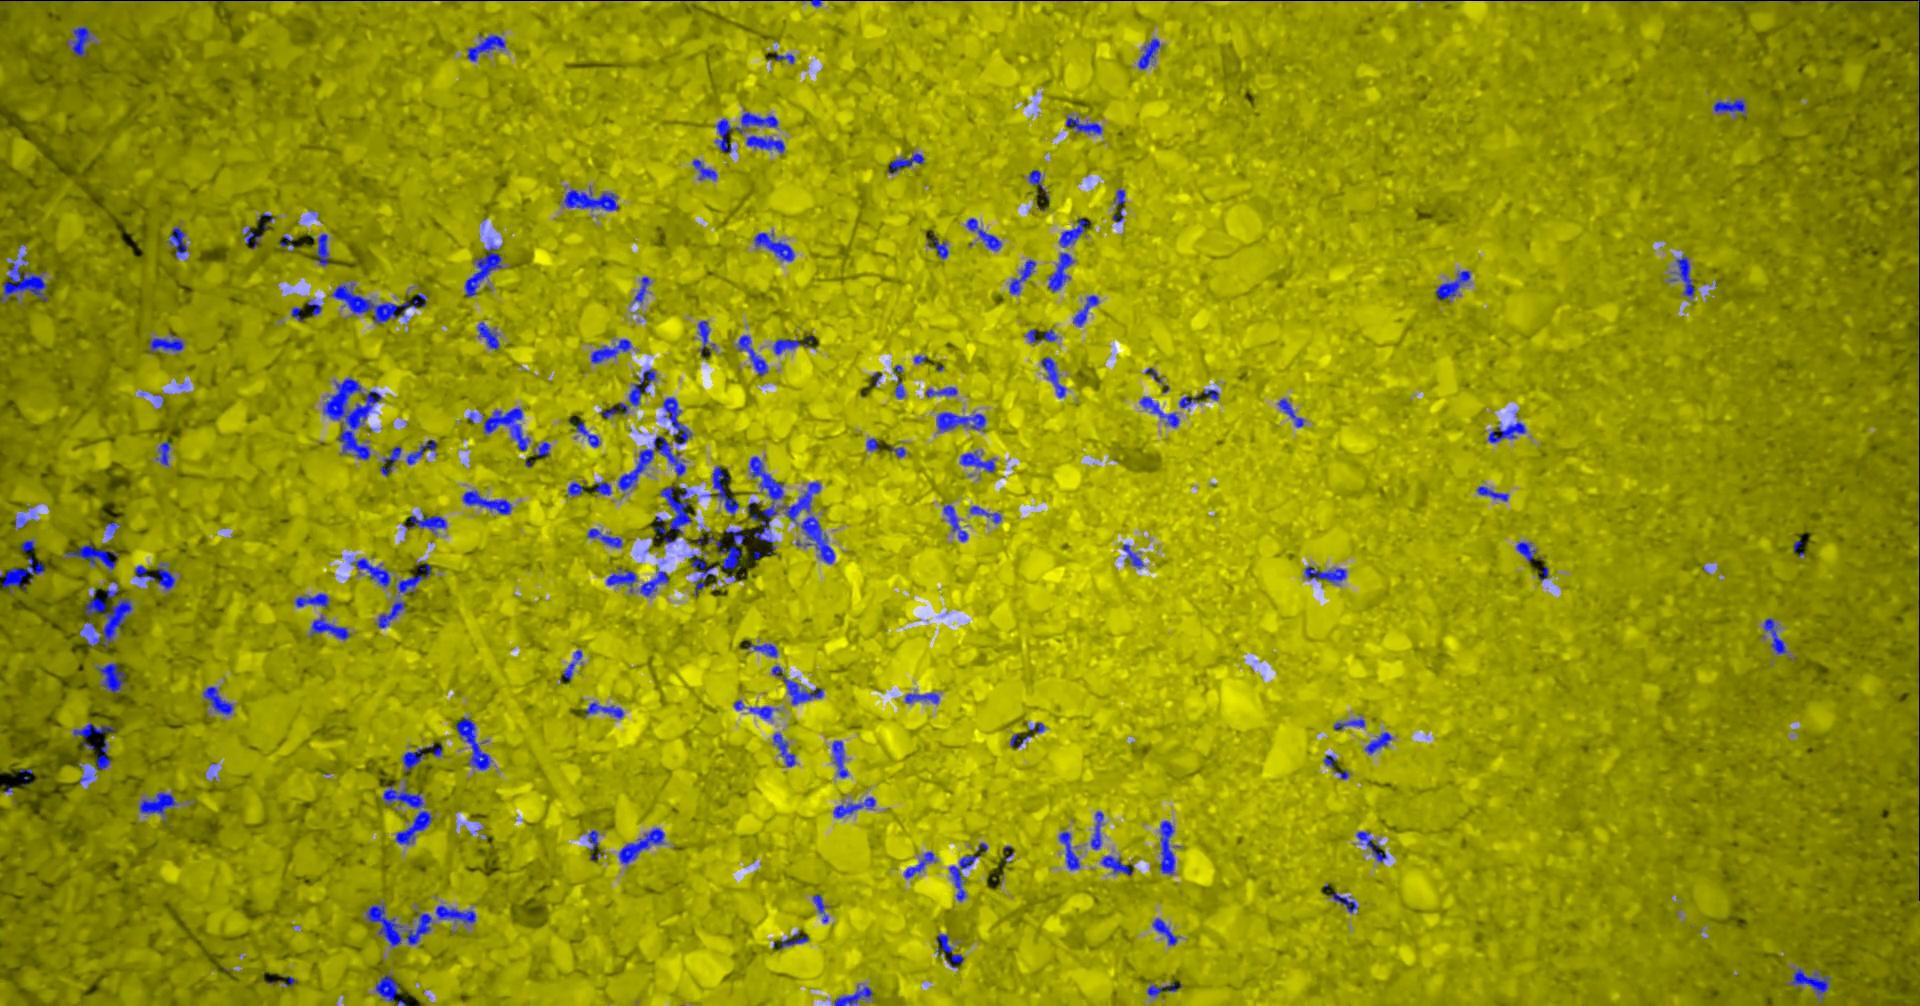ant: (617, 434, 684, 490), (745, 456, 783, 554), (382, 784, 430, 843), (366, 904, 430, 946), (84, 591, 132, 647), (714, 111, 777, 152), (483, 406, 530, 451), (771, 666, 823, 704), (0, 259, 47, 301), (455, 716, 491, 768), (463, 246, 502, 296), (703, 465, 738, 514), (618, 827, 664, 862), (0, 556, 44, 592), (65, 540, 117, 569), (660, 486, 692, 533), (949, 854, 979, 901), (662, 398, 691, 445), (715, 528, 744, 573), (563, 187, 618, 210), (737, 335, 767, 375), (1139, 396, 1178, 427), (462, 490, 510, 514), (753, 232, 794, 260), (966, 217, 1001, 250), (138, 791, 177, 821), (466, 33, 505, 61), (135, 563, 175, 589), (690, 554, 715, 596), (350, 558, 389, 586), (1790, 968, 1830, 995), (1041, 356, 1065, 398), (936, 412, 985, 432), (1048, 251, 1073, 291), (590, 338, 630, 363), (1435, 271, 1470, 298), (629, 368, 655, 405), (397, 563, 430, 592), (1672, 254, 1694, 297), (375, 974, 405, 1005), (1356, 831, 1385, 862), (1008, 259, 1035, 293), (310, 616, 349, 639), (943, 504, 968, 541), (1058, 218, 1090, 246), (936, 934, 963, 967), (832, 796, 875, 817), (639, 567, 668, 596), (97, 663, 124, 694), (202, 686, 232, 714), (1072, 295, 1098, 326), (1487, 420, 1525, 442), (403, 514, 446, 533), (1058, 831, 1079, 869), (1763, 619, 1785, 654), (1159, 821, 1175, 874), (903, 851, 935, 876), (959, 451, 996, 473), (772, 732, 795, 766), (376, 600, 404, 627), (1277, 398, 1304, 427), (1888, 0, 1919, 25), (606, 567, 636, 592), (436, 904, 475, 923), (833, 986, 872, 1005), (888, 152, 924, 173), (651, 514, 677, 542), (406, 439, 436, 464), (773, 337, 813, 354), (1137, 38, 1159, 69), (745, 135, 783, 152), (585, 528, 621, 547), (1152, 918, 1177, 945), (1304, 565, 1345, 582), (1100, 855, 1133, 875), (1065, 116, 1102, 133), (149, 333, 183, 352), (575, 420, 599, 447), (72, 721, 114, 737), (378, 446, 400, 475), (1364, 730, 1390, 753), (830, 741, 847, 777), (71, 25, 90, 57), (168, 226, 187, 258), (1029, 169, 1048, 199), (563, 649, 582, 680), (585, 702, 623, 718), (1330, 892, 1357, 912), (969, 506, 1001, 523), (477, 323, 498, 349), (1090, 810, 1103, 848), (1713, 99, 1745, 116), (745, 640, 777, 657), (401, 748, 424, 771), (1476, 485, 1509, 500), (94, 738, 110, 768), (692, 159, 716, 179), (1123, 544, 1143, 568), (1145, 982, 1180, 996), (315, 232, 329, 265), (295, 593, 328, 607), (811, 893, 827, 922), (778, 932, 808, 948), (632, 276, 649, 302), (601, 401, 627, 418), (931, 235, 949, 258), (243, 227, 262, 248), (1516, 541, 1535, 561), (1333, 718, 1364, 730), (588, 829, 601, 860), (697, 320, 709, 353), (1112, 189, 1124, 221), (924, 386, 956, 398), (904, 692, 938, 702), (155, 441, 169, 465), (748, 706, 772, 719), (1178, 394, 1197, 406), (307, 298, 321, 315), (594, 481, 611, 495), (18, 768, 32, 785), (889, 445, 905, 457), (425, 743, 442, 756), (894, 377, 904, 398), (535, 442, 549, 456), (568, 481, 582, 495), (775, 53, 794, 64), (279, 235, 295, 248), (1025, 329, 1040, 342), (291, 307, 303, 321), (1043, 328, 1057, 340), (1323, 754, 1336, 768), (1203, 389, 1218, 400), (19, 540, 34, 551), (866, 438, 877, 450)
